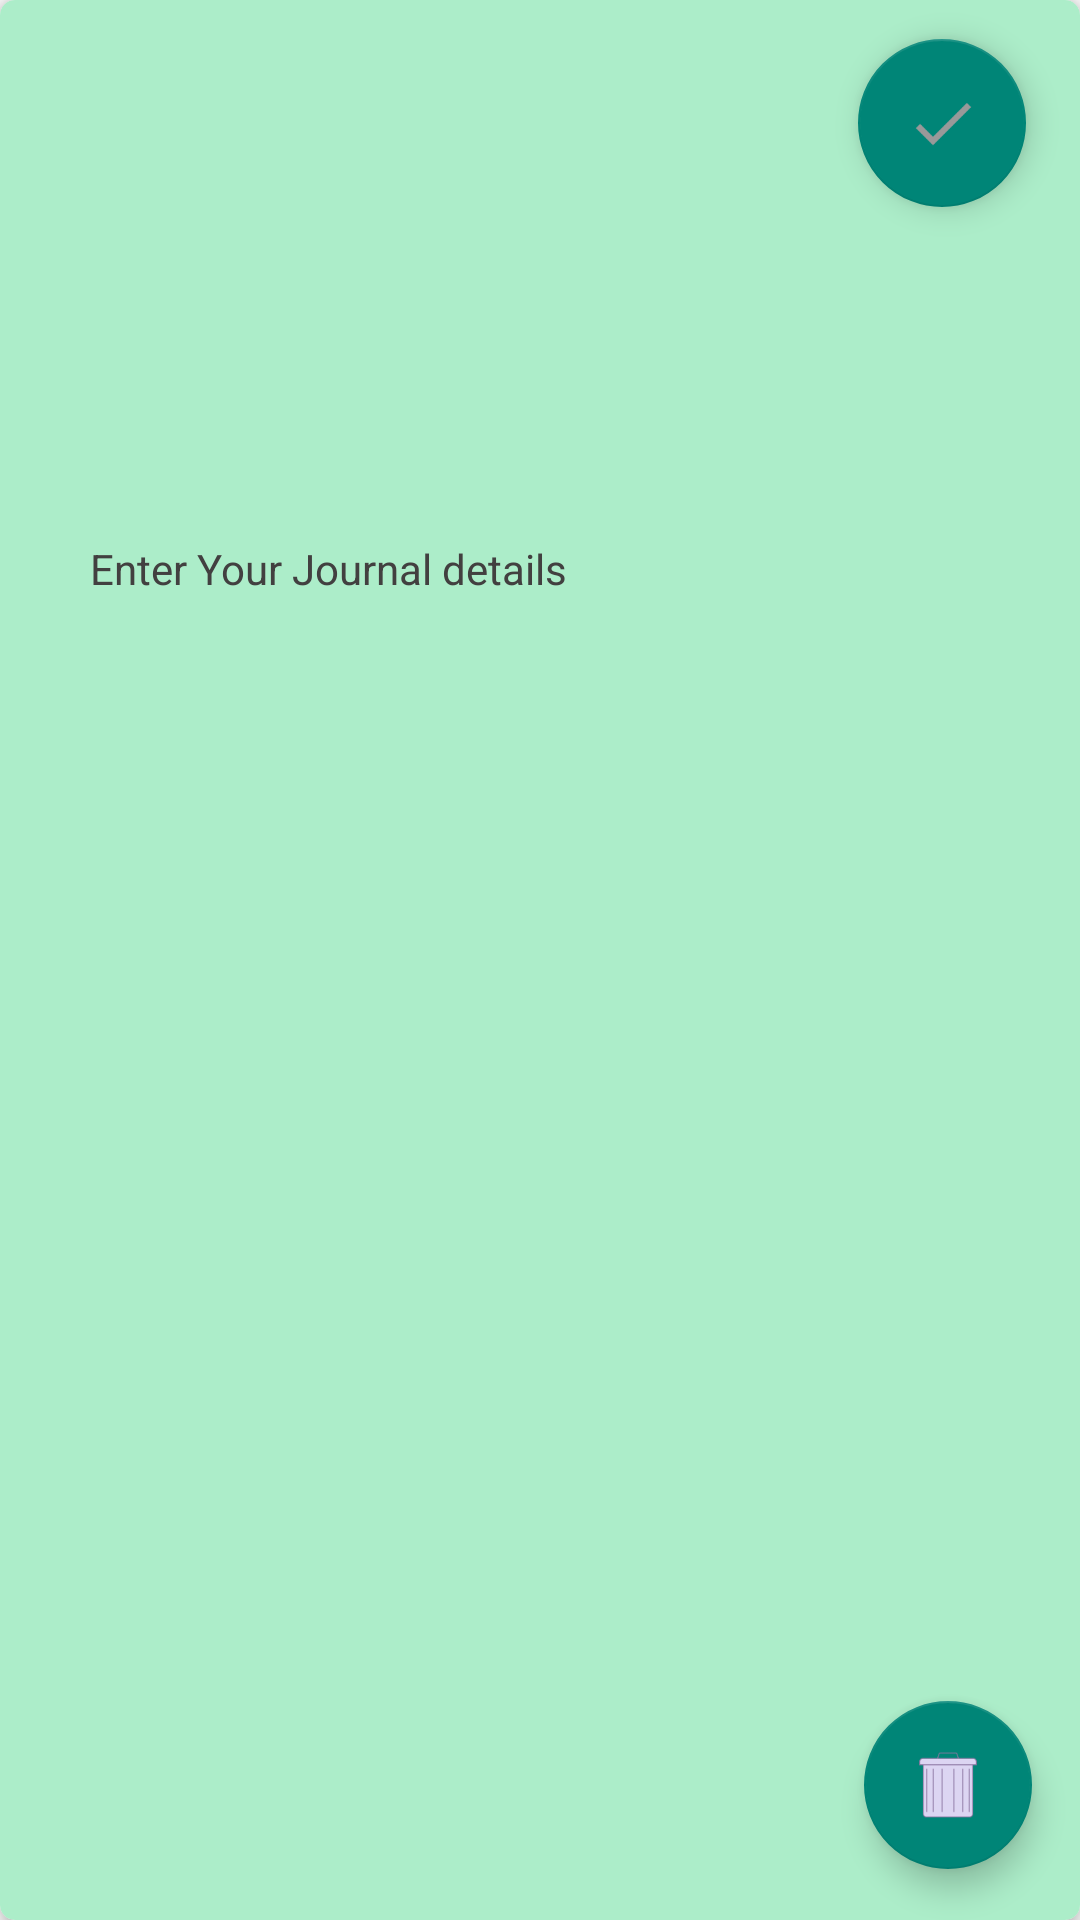

Where to tap for icons on this 1080×1920 app screen, as (x=x, y=y):
bin: (x=948, y=1785)
tick: (x=942, y=123)
